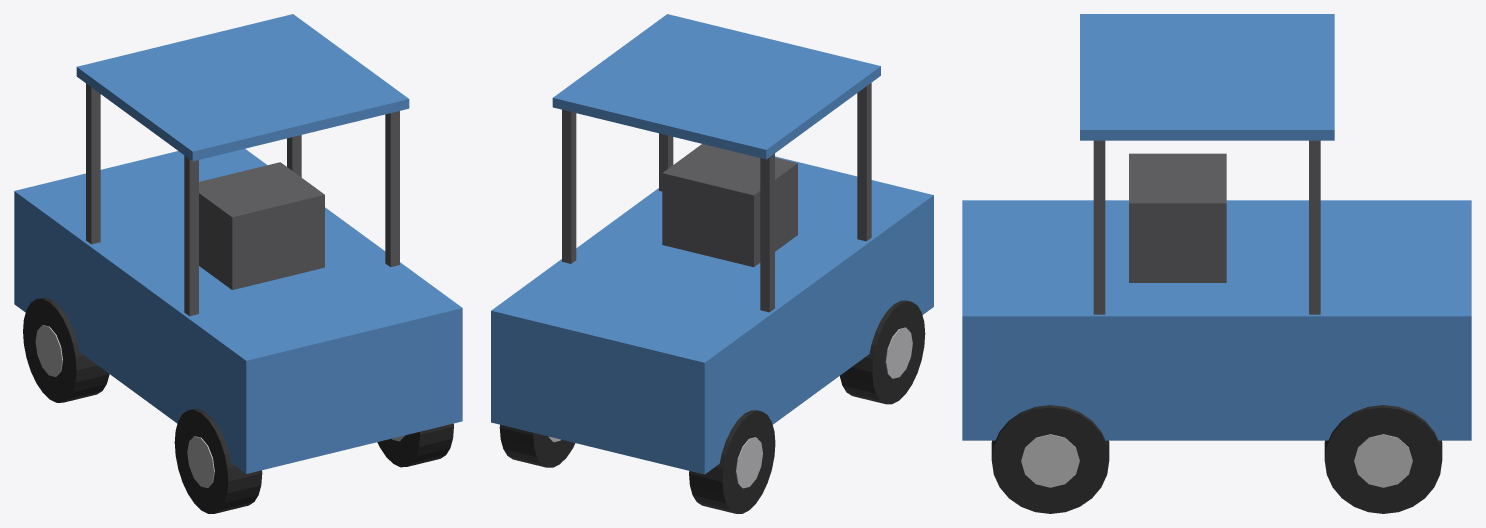
File: baggage_tug.glb
3 views of the same model, side by side, from view 1: azimuth 30°, elevation 25°; view 2: azimuth 150°, elevation 25°; view 3: azimuth 270°, elevation 25° (orthographic). The views are drawn at different scales.
Visible parts, largest first — view 1: body, roof, seat, wheel.001, wheel, roof_post, roof_post.001, roof_post.002, wheel.003, hub.001, hub, roof_post.003; view 2: body, roof, seat, wheel, wheel.001, roof_post.001, roof_post, roof_post.003, wheel.002, hub, hub.001, roof_post.002; view 3: body, roof, seat, wheel.002, wheel.003, hub.002, hub.003, roof_post.002, roof_post.003.
Part boxes in pixels (x1=…): body: x1=14, y1=149, x2=462, y2=473; roof: x1=76, y1=14, x2=409, y2=161; seat: x1=199, y1=162, x2=324, y2=289; wheel.001: x1=174, y1=409, x2=262, y2=513; wheel: x1=23, y1=298, x2=109, y2=402; roof_post: x1=184, y1=155, x2=198, y2=316; roof_post.001: x1=86, y1=83, x2=100, y2=244; roof_post.002: x1=385, y1=111, x2=399, y2=267; wheel.003: x1=377, y1=423, x2=453, y2=467; hub.001: x1=187, y1=436, x2=214, y2=487; hub: x1=35, y1=325, x2=62, y2=376; roof_post.003: x1=287, y1=135, x2=301, y2=177; body: x1=491, y1=156, x2=933, y2=474; roof: x1=552, y1=14, x2=880, y2=159; seat: x1=662, y1=144, x2=797, y2=267; wheel: x1=689, y1=410, x2=775, y2=513; wheel.001: x1=840, y1=300, x2=925, y2=404; roof_post.001: x1=760, y1=153, x2=774, y2=312; roof_post: x1=857, y1=83, x2=871, y2=241; roof_post.003: x1=562, y1=109, x2=576, y2=263; wheel.002: x1=499, y1=424, x2=575, y2=467; hub: x1=735, y1=437, x2=762, y2=488; hub.001: x1=885, y1=327, x2=912, y2=378; roof_post.002: x1=659, y1=133, x2=673, y2=191; body: x1=962, y1=200, x2=1471, y2=440; roof: x1=1080, y1=14, x2=1334, y2=140; seat: x1=1129, y1=153, x2=1226, y2=282; wheel.002: x1=1324, y1=405, x2=1442, y2=513; wheel.003: x1=991, y1=405, x2=1109, y2=513; hub.002: x1=1354, y1=434, x2=1412, y2=487; hub.003: x1=1021, y1=434, x2=1079, y2=487; roof_post.002: x1=1093, y1=140, x2=1105, y2=314; roof_post.003: x1=1309, y1=140, x2=1320, y2=314.
Size of the model in its own units: 1.47 by 2.15 by 2.6.
